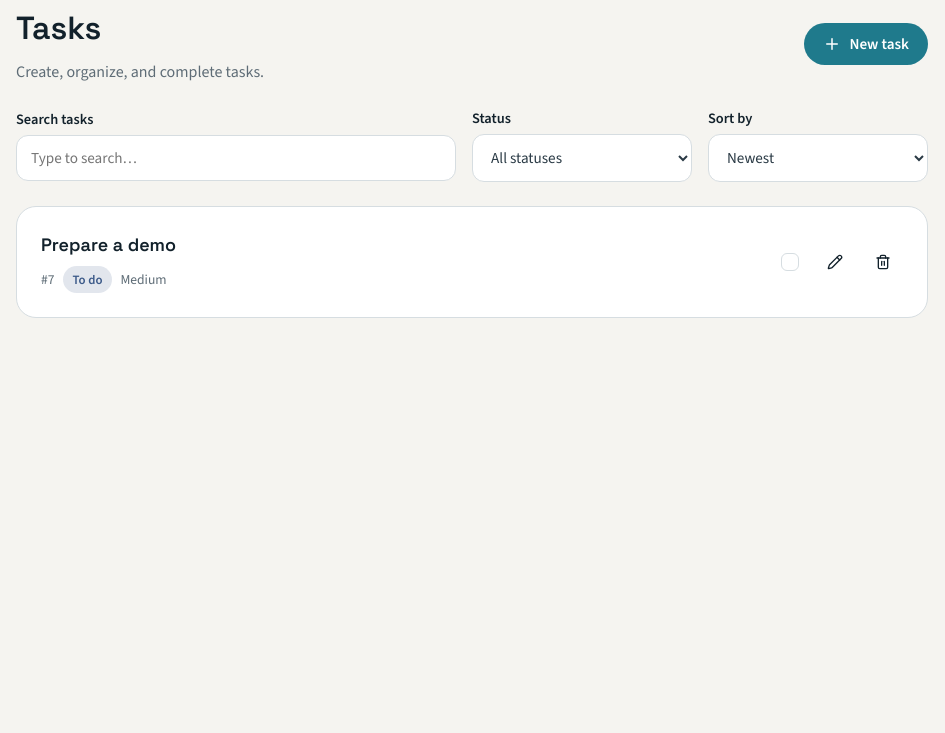
explains the task leaving the active filter and restores it under All statuses
expect the checkbox is shown: met, box [781,253,799,271]
Select "To do" in the dropdown labelled "Status" at (582, 158), box [472,134,692,182]
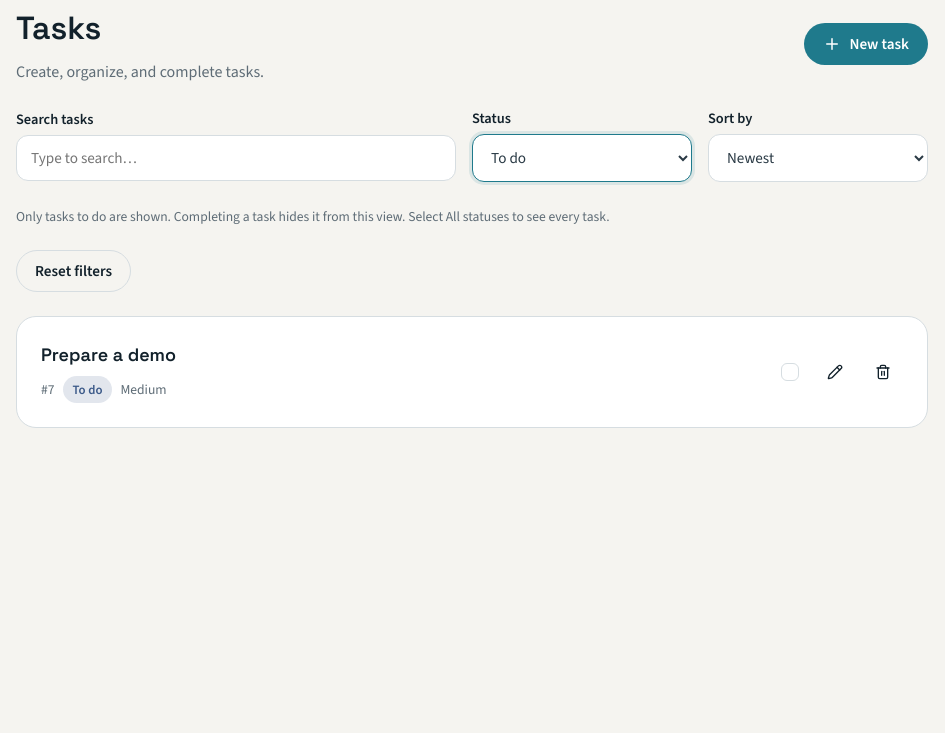
Click the checkbox at (790, 372), box [781,363,799,381]
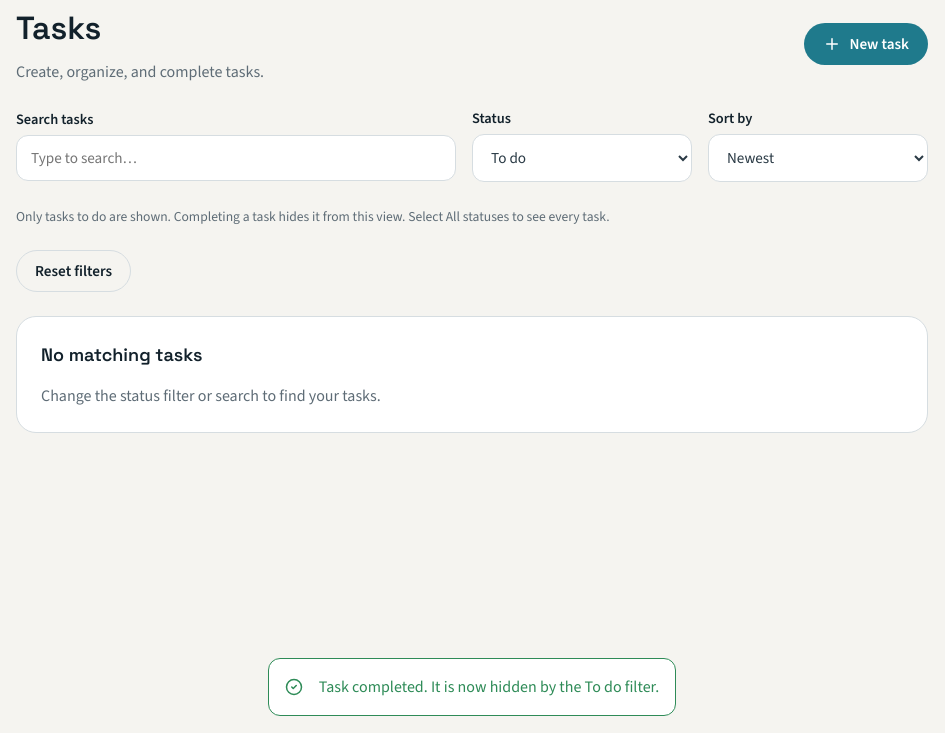
expect the text "Task completed. It is now hidden by the To do filter." is shown: met, box [268,658,676,716]
expect the heading "Prepare a demo" is gone: met
Select "All statuses" in the dropdown labelled "Status" at (582, 158), box [472,134,692,182]
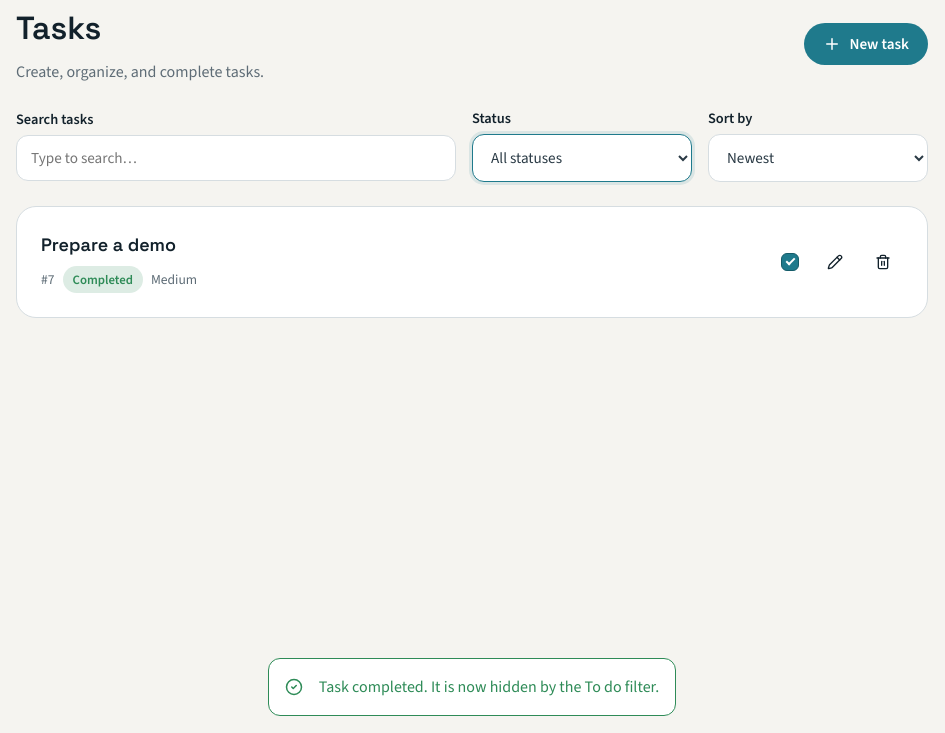
expect the heading "Prepare a demo" is shown: met, box [41,233,176,256]
